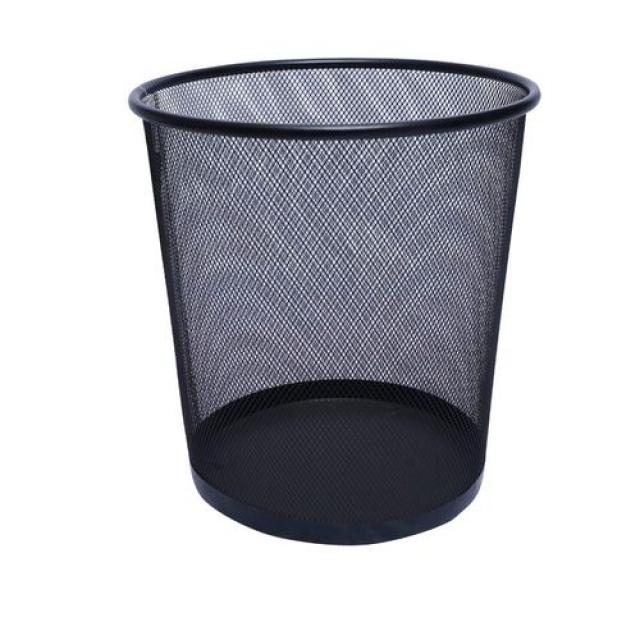dustbin: (125, 51, 546, 552)
